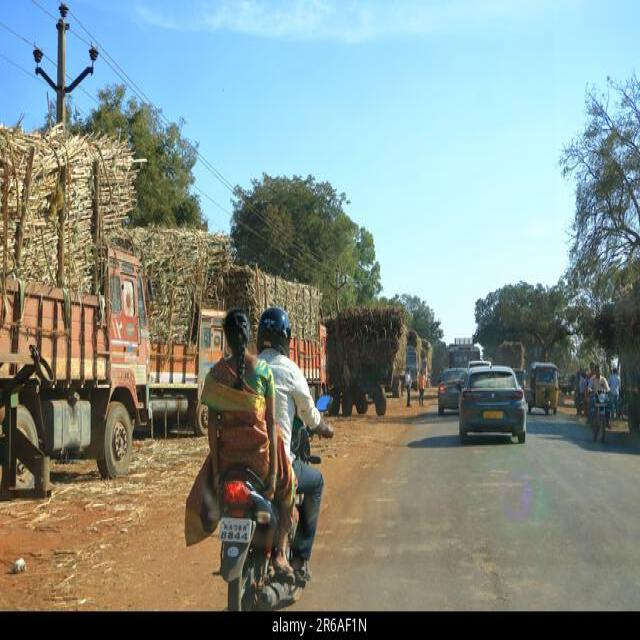goods: (0, 125, 135, 291), (119, 226, 232, 343), (225, 265, 321, 339), (328, 306, 406, 377)
truck: (0, 247, 150, 477), (148, 308, 225, 435), (329, 362, 392, 416), (289, 324, 326, 396)
